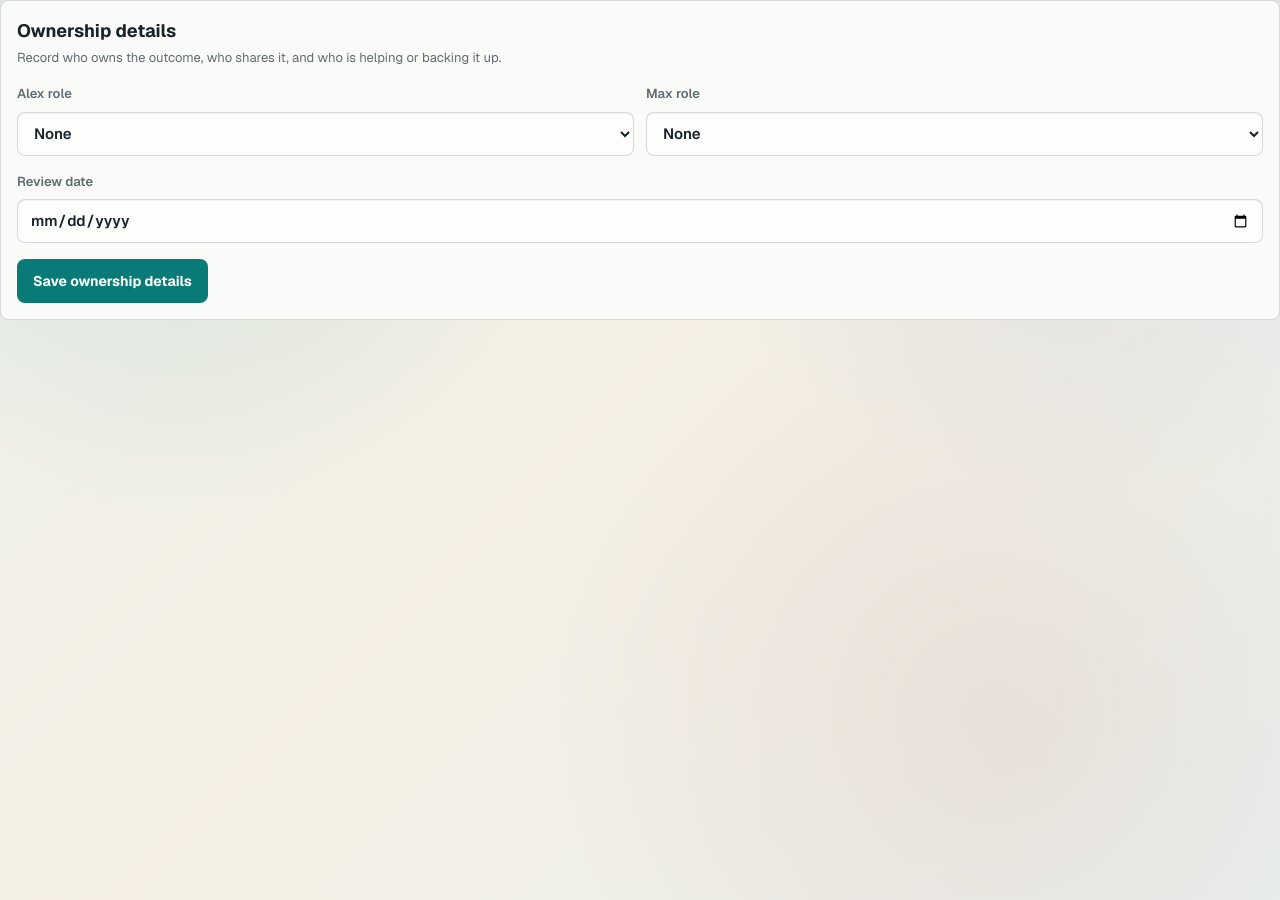
Test: OwnershipDetails › still requires an owner when a card starts without one
The width and height of the screenshot is (1280, 900).
Click the button "Save ownership details". click: x=112, y=281
box: x1=17 y1=259 x2=208 y2=303
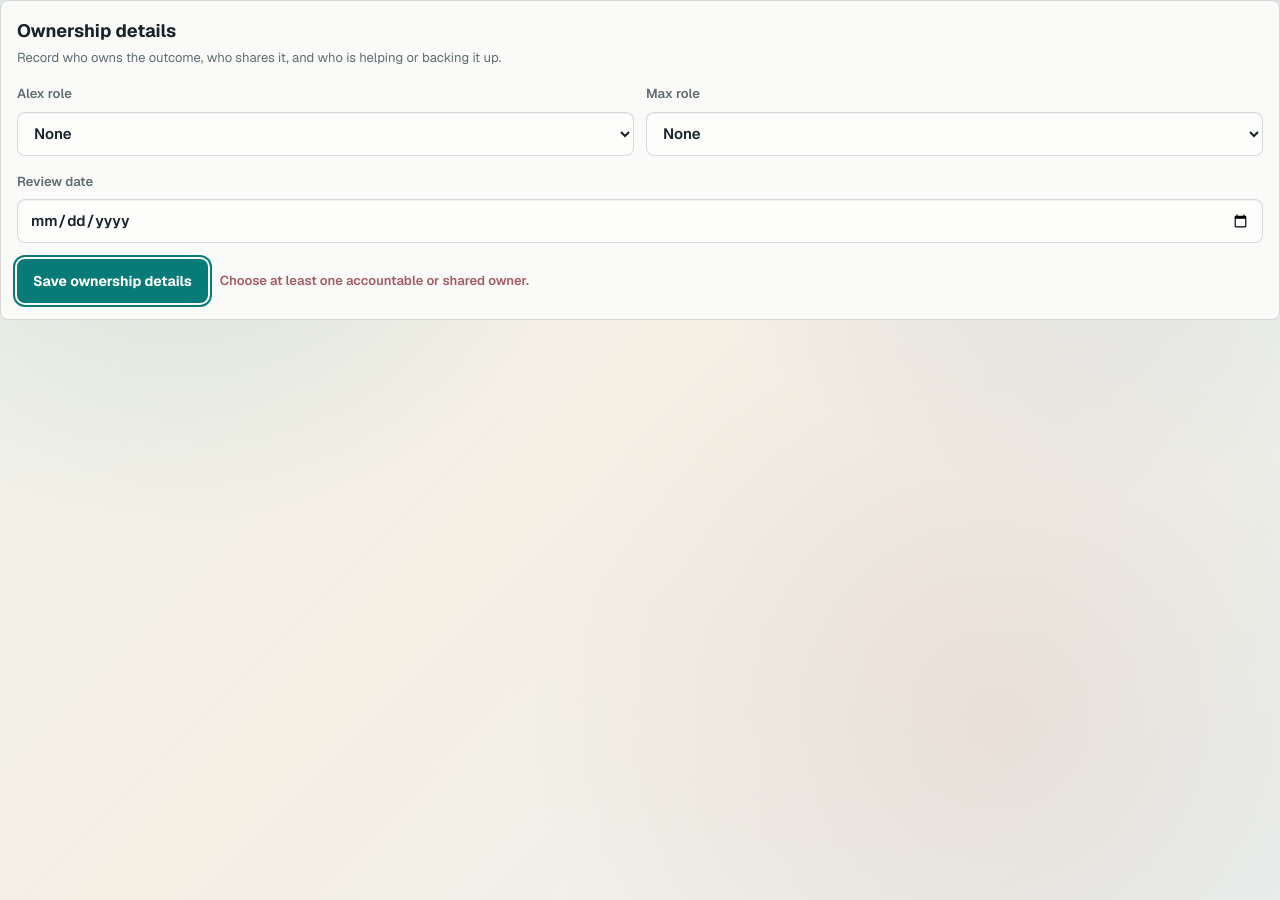
Check: the message reads "Choose at least one accountable or shared owner.", box x1=220 y1=272 x2=529 y2=289
